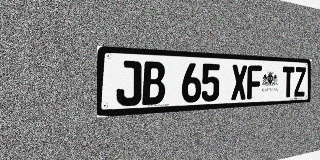5: (202, 63, 220, 102)
6: (182, 63, 201, 103)
B: (142, 61, 165, 105)
F: (247, 65, 262, 99)
J: (116, 60, 141, 107)
T: (282, 66, 294, 98)
X: (231, 65, 247, 100)
Z: (294, 67, 306, 97)
